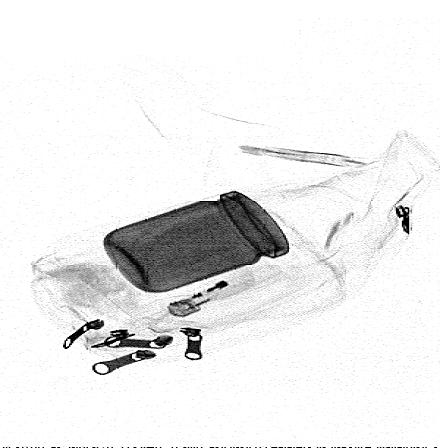Lighter: (160, 265, 282, 318)
